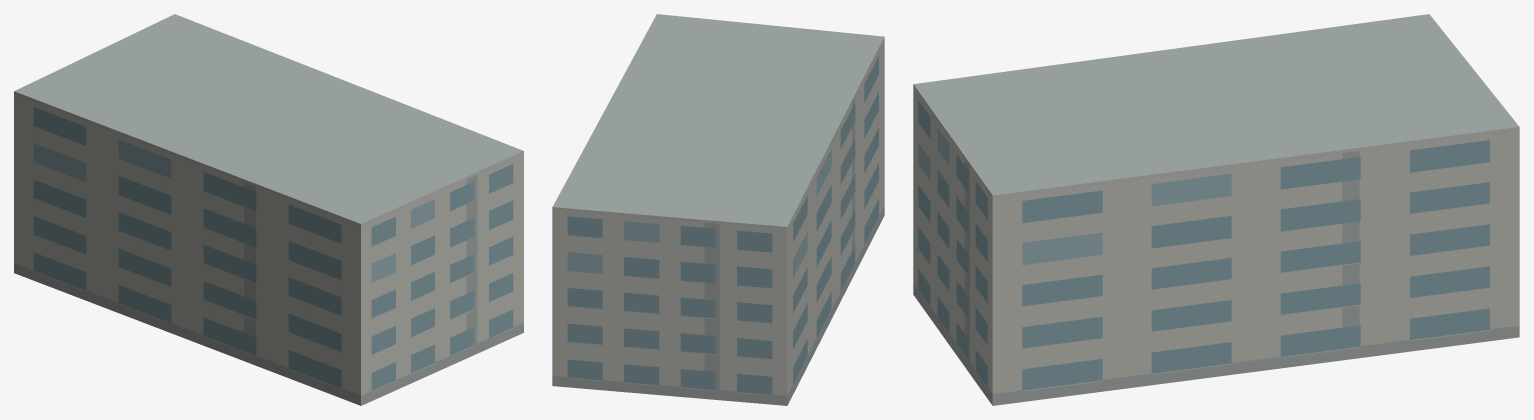
Rendered from residential-0237cd29-cb77-4435-a42a-e8e60b4cfc20.glb.
The picture shows the model from 3 angles, left to right: view 1: azimuth 30°, elevation 25°; view 2: azimuth 150°, elevation 25°; view 3: azimuth 270°, elevation 25°; orthographic projection. The views are drawn at different scales.
Visible parts, largest first — view 1: residential-0237cd29-cb77-4435-a42a-e8e60b4cfc20.tmp; view 2: residential-0237cd29-cb77-4435-a42a-e8e60b4cfc20.tmp; view 3: residential-0237cd29-cb77-4435-a42a-e8e60b4cfc20.tmp.
Boxes of the visible parts, x1,y1,x2,y2 form: residential-0237cd29-cb77-4435-a42a-e8e60b4cfc20.tmp: [14, 14, 523, 405]; residential-0237cd29-cb77-4435-a42a-e8e60b4cfc20.tmp: [552, 14, 884, 405]; residential-0237cd29-cb77-4435-a42a-e8e60b4cfc20.tmp: [913, 14, 1519, 405].
Size of the model in its own units: 28.2 by 15.25 by 39.81.
